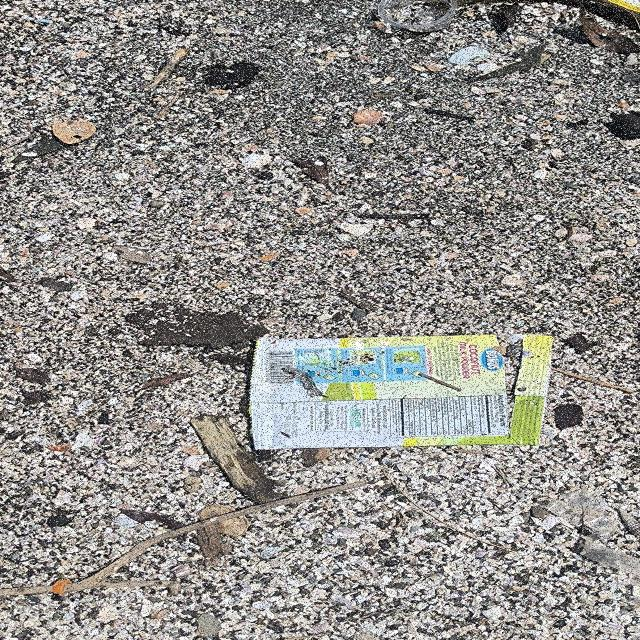plastic_waste: (250, 336, 555, 452)
